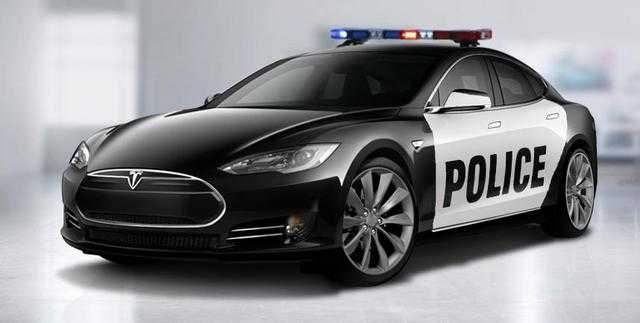Police Car: (62, 22, 602, 310)
